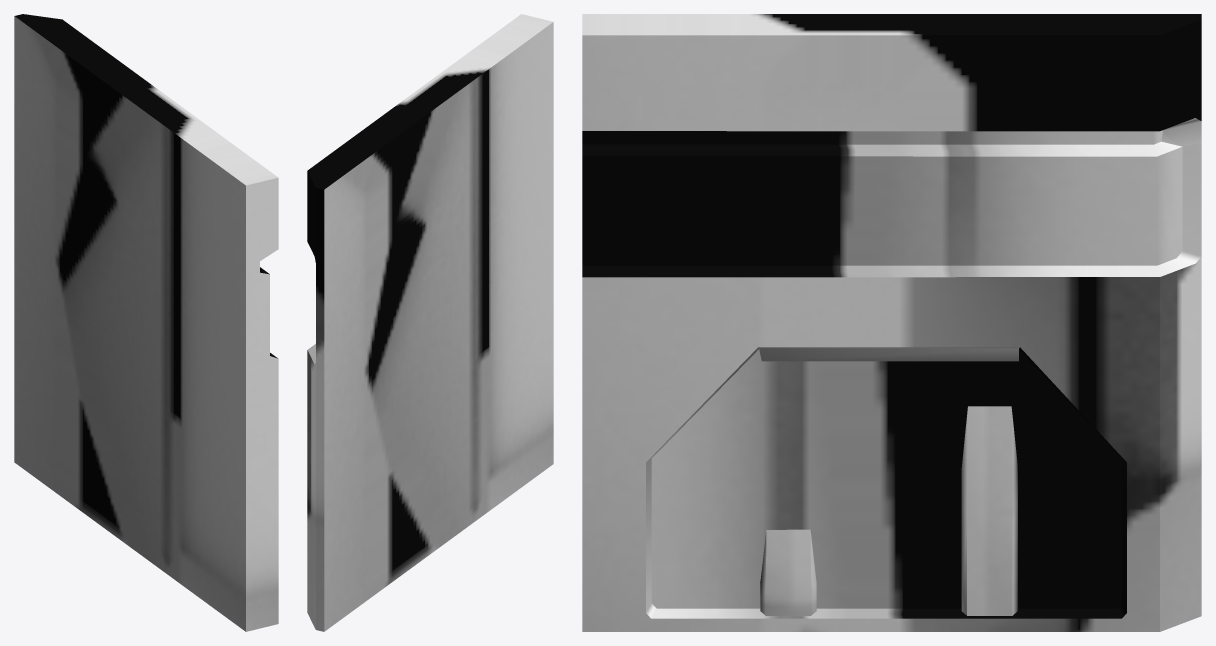
Rendered from WF_Right_side_gate.fbx.
The picture shows the model from 3 angles, left to right: view 1: azimuth 30°, elevation 25°; view 2: azimuth 150°, elevation 25°; view 3: azimuth 270°, elevation 25°; orthographic projection. The views are drawn at different scales.
Parts seen in each view (by area): view 1: WF_Right_side_gate; view 2: WF_Right_side_gate; view 3: WF_Right_side_gate.
Part boxes in pixels (bbox=[...]): WF_Right_side_gate: bbox=[14, 14, 278, 631]; WF_Right_side_gate: bbox=[307, 14, 553, 631]; WF_Right_side_gate: bbox=[582, 14, 1201, 631].
Bounding box in the file's own units: 3.39 × 44.49 × 41.83.
